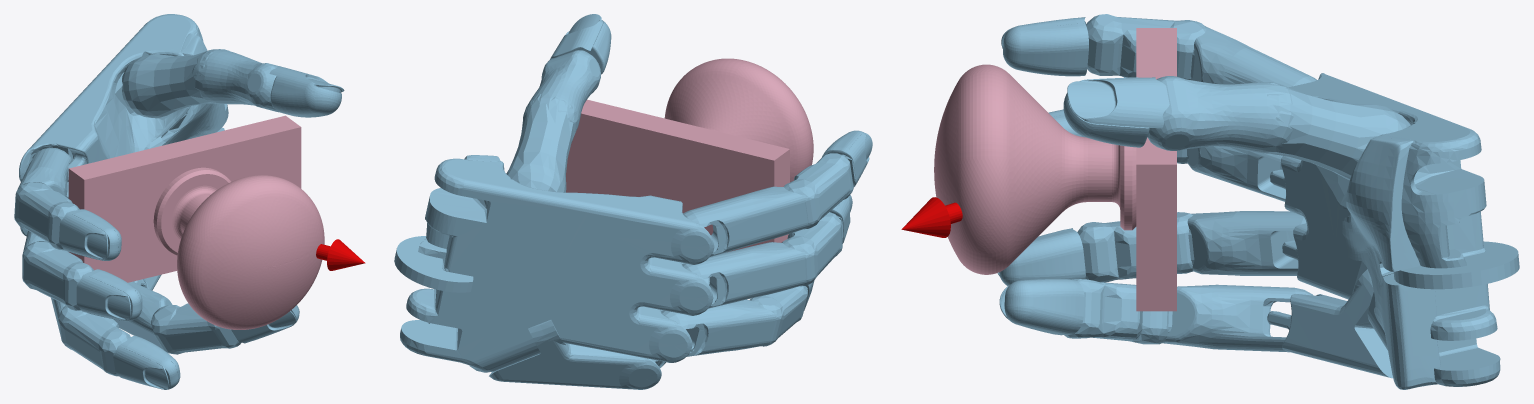
3 views of the same model, side by side, from view 1: azimuth 30°, elevation 25°; view 2: azimuth 150°, elevation 25°; view 3: azimuth 270°, elevation 25° (orthographic). The views are drawn at different scales.
Visible parts, largest first — view 1: world, door_knob.stl; view 2: world, door_knob.stl; view 3: world, door_knob.stl.
Part boxes in pixels (box(x1,y1,x2,y2)): world: box(14, 14, 365, 389); door_knob.stl: box(68, 115, 324, 329); world: box(394, 14, 872, 389); door_knob.stl: box(566, 58, 813, 252); world: box(901, 14, 1519, 389); door_knob.stl: box(934, 28, 1176, 311).
Bounding box in the file's own units: 0.1428 × 0.1192 × 0.1911.
